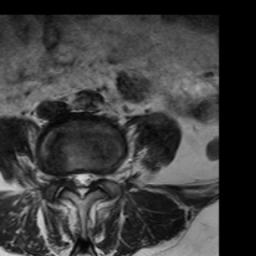CCS_normal: (78, 162, 86, 205)
LFS_stenosis: (96, 161, 106, 188)
LLS_stenosis: (86, 162, 96, 193)
RFS_stenosis: (60, 161, 69, 190)
RLS_stenosis: (69, 161, 78, 193)
